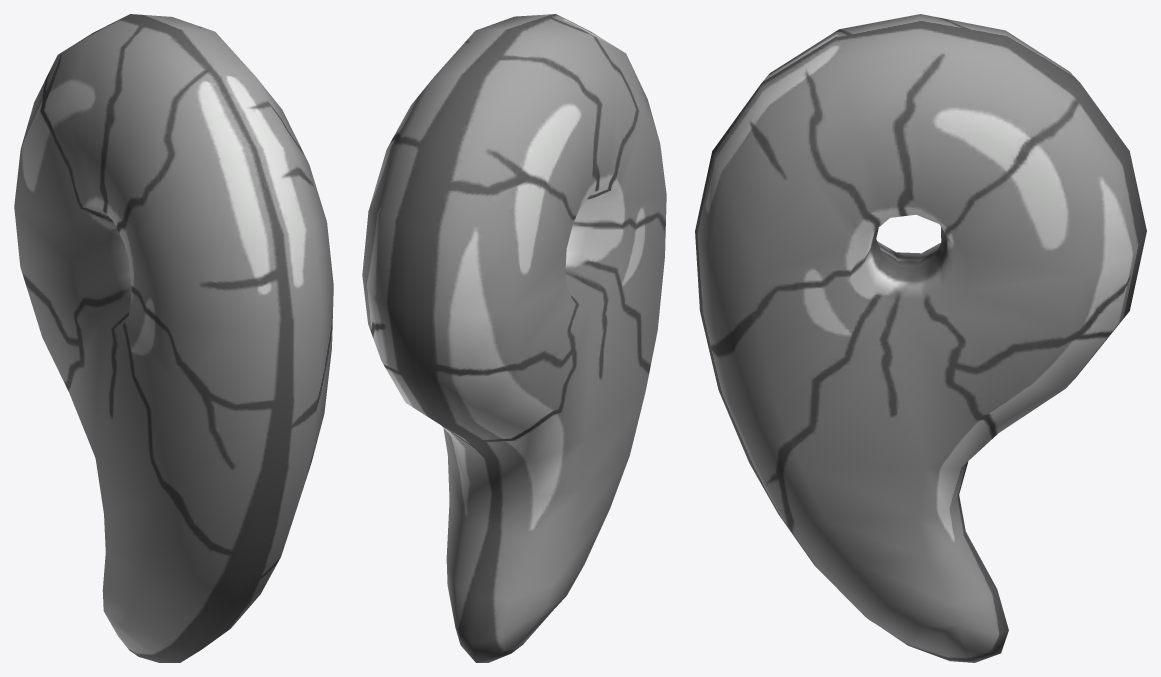
The model's file is Boss_100_DivineOrb.fbx.
The picture shows the model from 3 angles, left to right: view 1: azimuth 30°, elevation 25°; view 2: azimuth 150°, elevation 25°; view 3: azimuth 270°, elevation 25°; orthographic projection. The views are drawn at different scales.
Parts seen in each view (by area): view 1: Model; view 2: Model; view 3: Model.
Boxes of the visible parts, x1,y1,x2,y2 form: Model: (14,14,333,662); Model: (362,14,666,662); Model: (695,14,1146,662).
Bounding box in the file's own units: 0.1835 × 0.7252 × 0.4637.
Materials: 1 (1 with a texture image).
